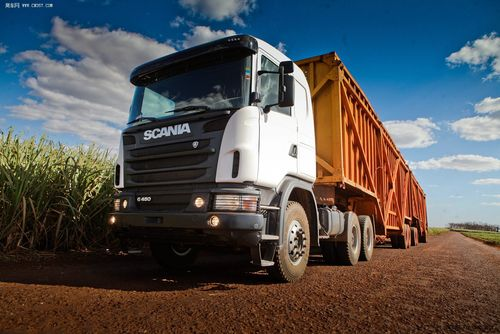卡车: (109, 36, 437, 274)
